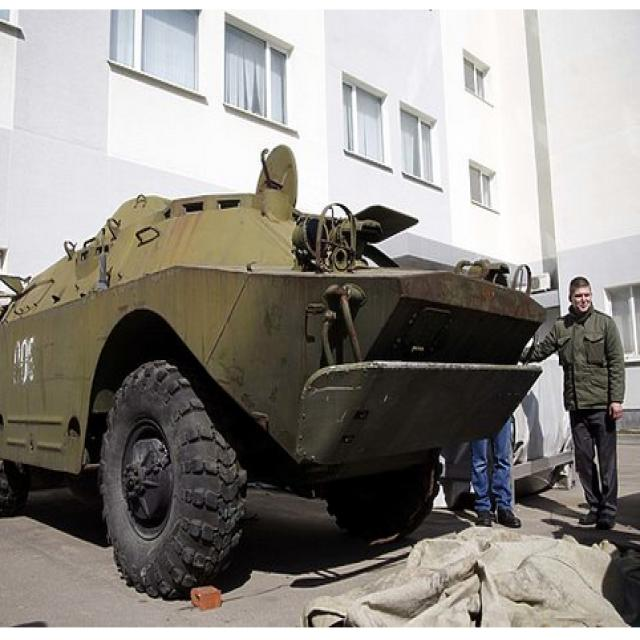MIL_APC: (0, 181, 544, 596)
